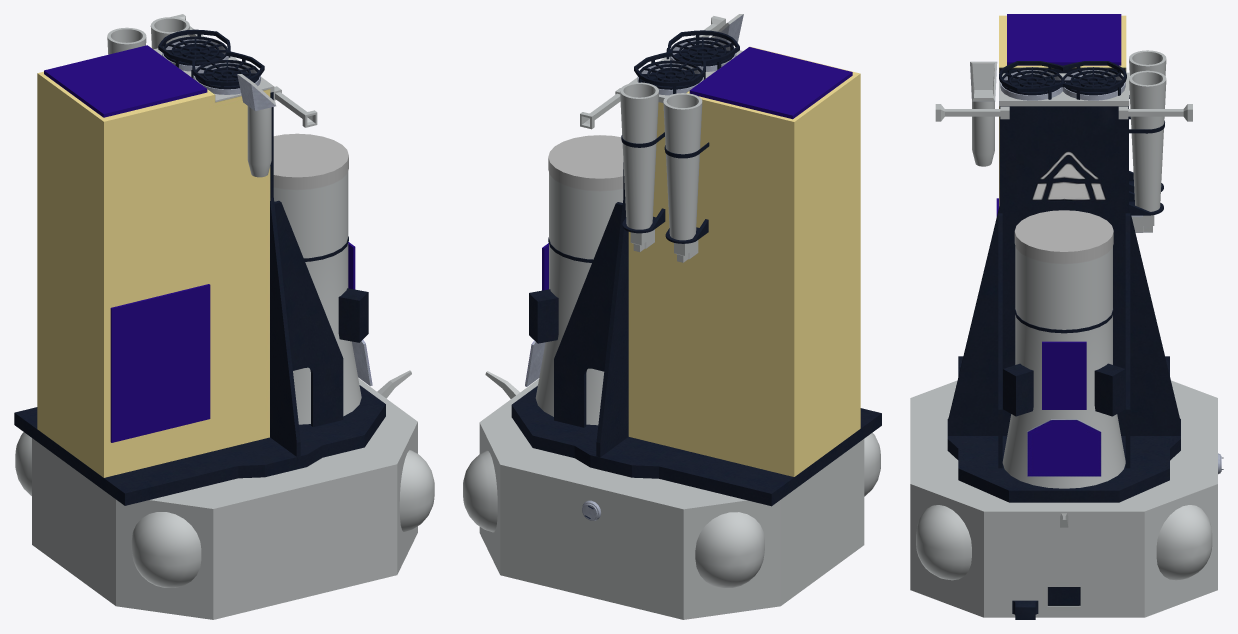
Rendered from SateliteCuerpo.glb.
The picture shows the model from 3 angles, left to right: view 1: azimuth 30°, elevation 25°; view 2: azimuth 150°, elevation 25°; view 3: azimuth 270°, elevation 25°; orthographic projection. The views are drawn at different scales.
Visible parts, largest first — view 1: Cuerpo; view 2: Cuerpo; view 3: Cuerpo.
Part boxes in pixels (x1,y1,x2,y2): Cuerpo: (14, 14, 434, 619); Cuerpo: (463, 14, 881, 619); Cuerpo: (910, 14, 1223, 619).
Bounding box in the file's own units: 0.8839 × 1.23 × 0.733.
2 materials, 2 textured.
